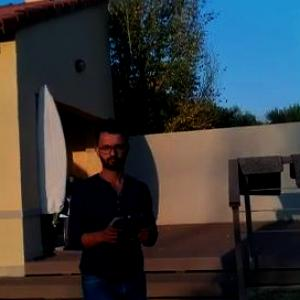follow: (64, 112, 162, 299)
